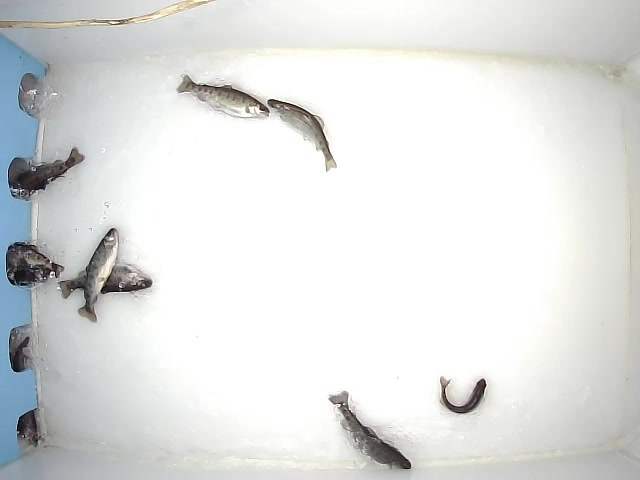fish: (325, 389, 412, 471), (265, 97, 337, 174), (174, 71, 271, 121), (76, 226, 119, 325), (8, 144, 87, 196), (56, 260, 153, 299), (437, 376, 489, 414)
